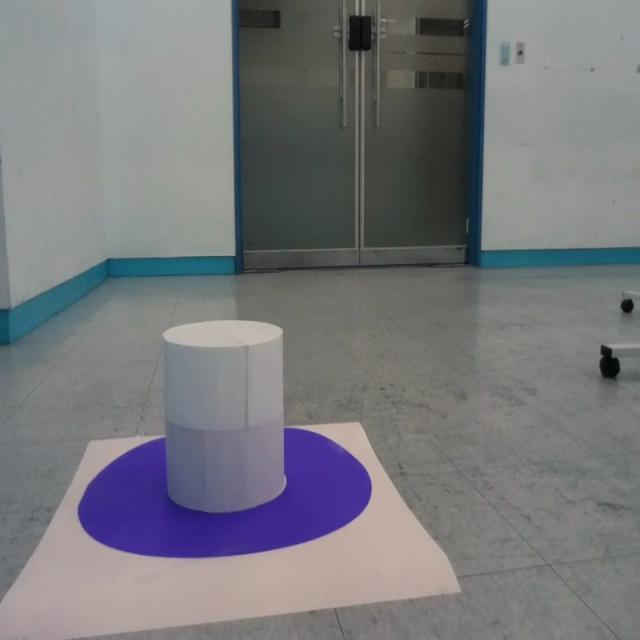cylinder: (161, 319, 287, 512)
